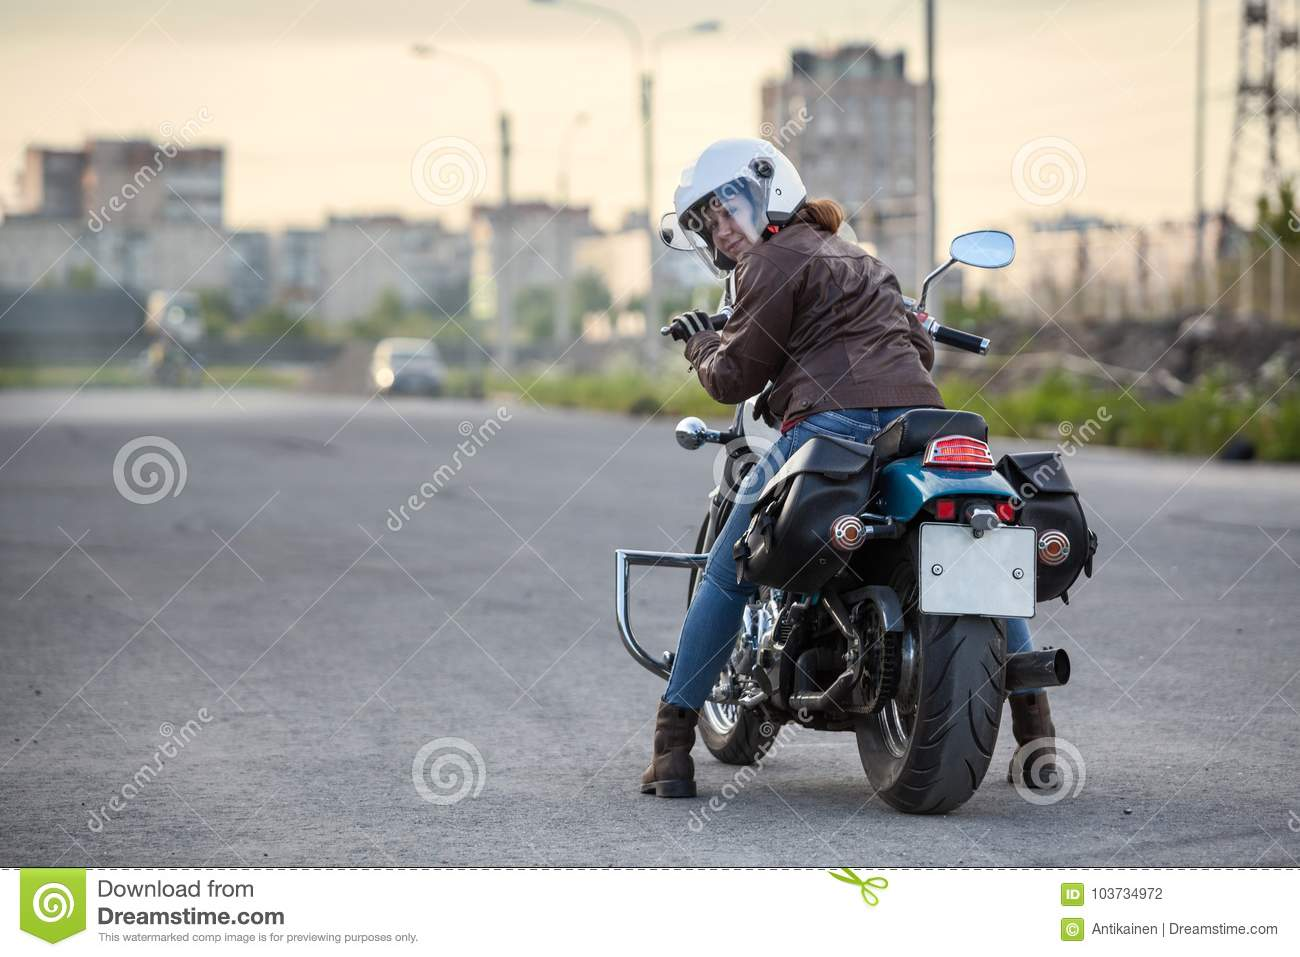helmet: (670, 129, 802, 263)
